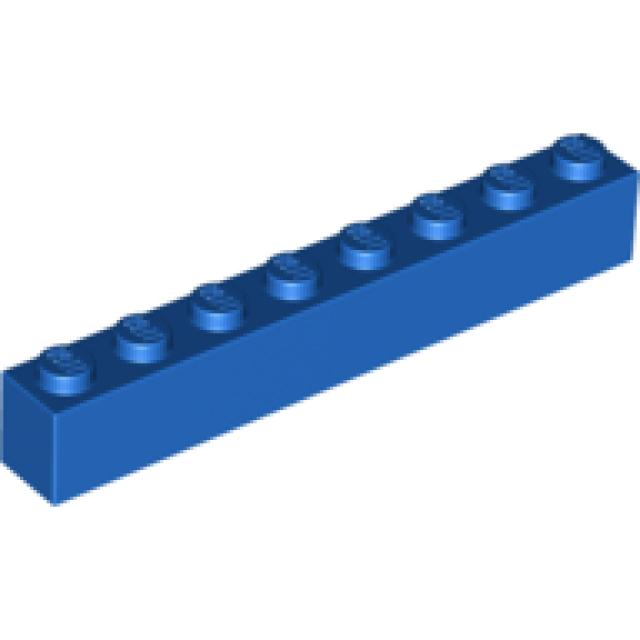Blue_Large: (0, 133, 640, 510)
